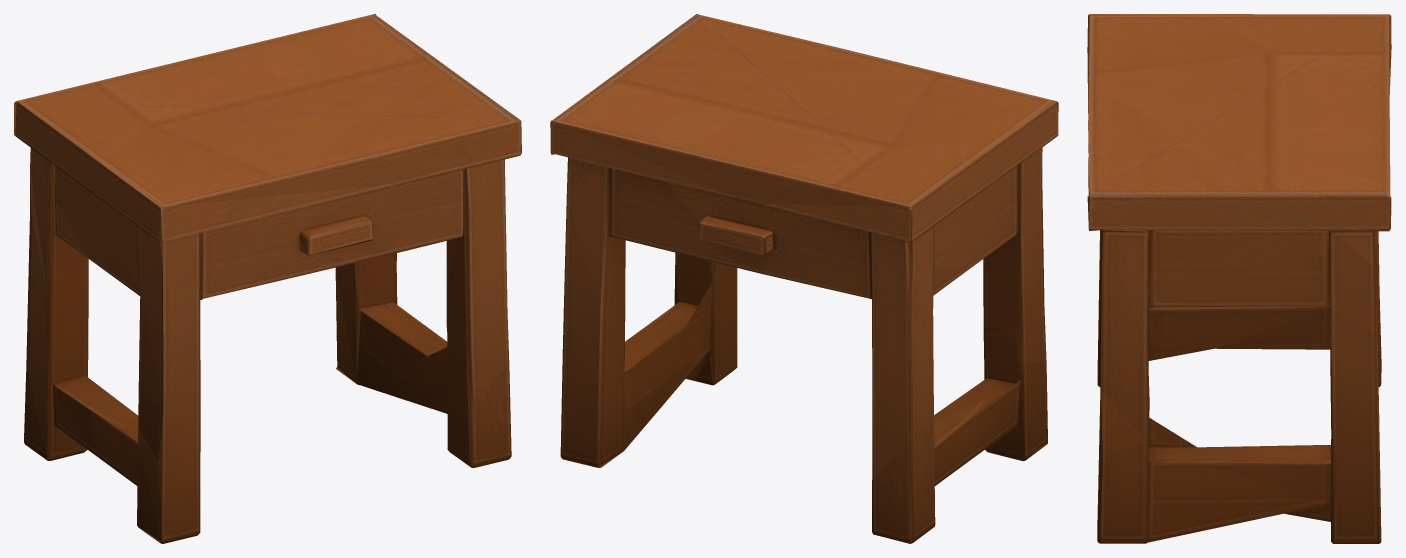
3 renders of one model, left to right at view 1: azimuth 30°, elevation 25°; view 2: azimuth 150°, elevation 25°; view 3: azimuth 270°, elevation 25°, orthographic. The views are drawn at different scales.
Parts seen in each view (by area): view 1: Mesh_0; view 2: Mesh_0; view 3: Mesh_0.
Part boxes in pixels (left/top/right/bottom): Mesh_0: left=14, top=14, right=521, bottom=543; Mesh_0: left=550, top=14, right=1058, bottom=543; Mesh_0: left=1087, top=14, right=1391, bottom=543.
Size of the model in its own units: 0.61 by 0.55 by 0.43.
Materials: 1 (1 with a texture image).
